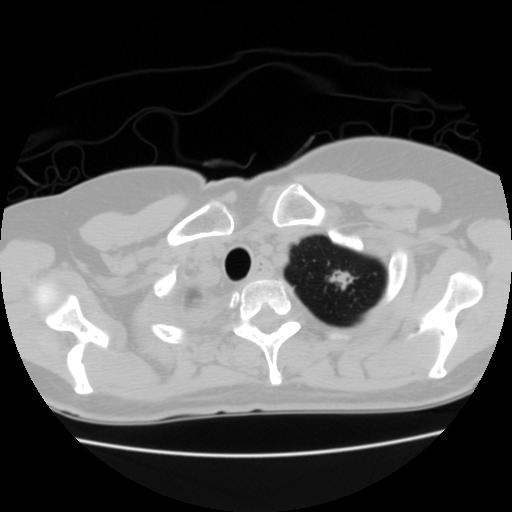nodule: (327, 263, 355, 291)
